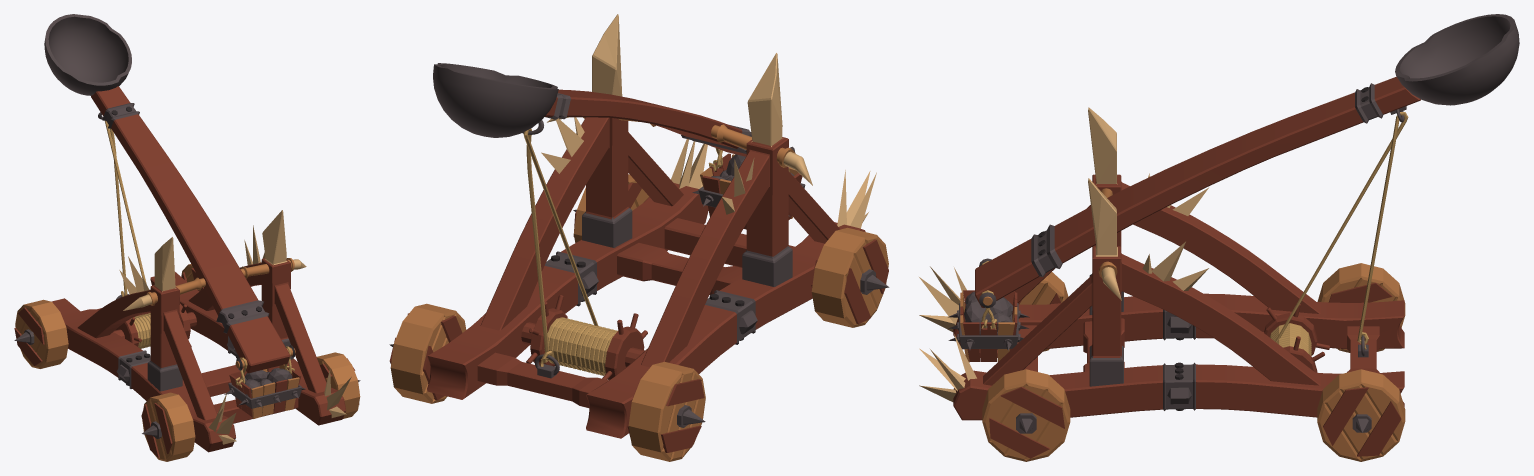
The model's file is catapult.fbx.
3 renders of one model, left to right at view 1: azimuth 30°, elevation 25°; view 2: azimuth 150°, elevation 25°; view 3: azimuth 270°, elevation 25°, orthographic. The views are drawn at different scales.
Parts seen in each view (by area): view 1: Cube.013, Cube.003, Cube, Sphere, Cylinder.010, Cylinder.013, Cylinder, Cylinder.008, Cylinder.005, Cone.001, Cylinder.002, Cube.010 (+4 smaller); view 2: Cube.003, Cube, Sphere, Cylinder.002, Cube.013, Cylinder.010, Cylinder.013, Cylinder.014, Cube.012, Cone.001, Cylinder.008, Cube.010 (+5 smaller); view 3: Cube.003, Cube, Cube.013, Sphere, Cylinder.014, Cylinder, Cube.005, Cube.007, Cone.001, Cylinder.008, Cylinder.010, Cylinder.002 (+6 smaller).
Boxes of the visible parts, x1,y1,x2,y2 form: Cube.013: (91,86,290,373); Cube.003: (77,210,326,420); Cube: (24,272,345,452); Sphere: (44,14,131,95); Cylinder.010: (15,299,68,368); Cylinder.013: (142,392,195,461); Cylinder: (316,352,360,418); Cylinder.008: (105,121,146,296); Cylinder.005: (123,258,306,310); Cone.001: (208,367,351,444); Cylinder.002: (115,303,190,348); Cube.010: (141,403,195,458); Cube.003: (480,14,840,367); Cube: (427,183,875,438); Sphere: (433,63,558,137); Cylinder.002: (530,308,644,380); Cube.013: (545,89,751,156); Cylinder.010: (628,361,705,461); Cylinder.013: (811,227,888,327); Cylinder.014: (390,303,466,403); Cube.012: (477,352,608,407); Cone.001: (671,139,876,228); Cylinder.008: (523,128,598,366); Cube.010: (811,239,888,324); Cube.003: (983,107,1320,386); Cube: (953,293,1404,433); Cube.013: (975,76,1420,307); Sphere: (1395,14,1519,105); Cylinder.014: (1317,369,1405,461); Cylinder: (982,369,1070,461); Cube.005: (989,387,1064,458); Cube.007: (1323,387,1401,456); Cone.001: (919,266,976,401); Cylinder.008: (1275,112,1408,349); Cylinder.010: (1317,263,1405,352); Cylinder.002: (1264,313,1317,372).
Size of the model in its own units: 906 by 1131 by 1628.
